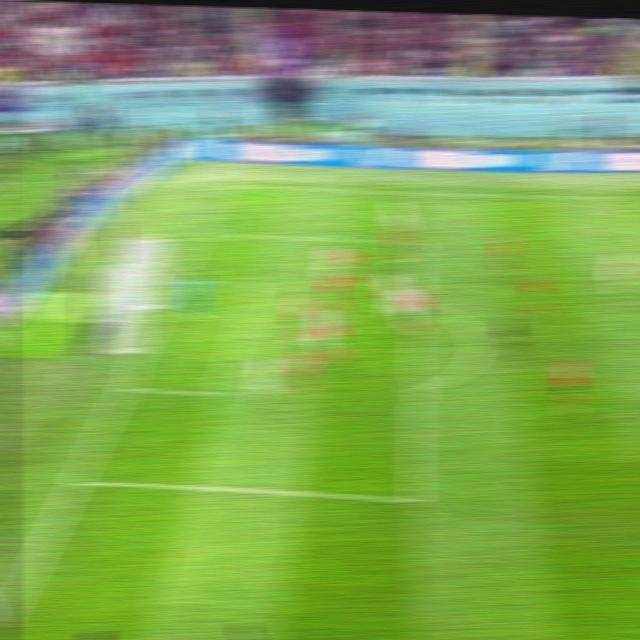bigarea_bottom_inner: (400, 484, 432, 513)
bigarea_bottom_outter: (64, 470, 93, 492)
bigarea_top_inner: (406, 232, 432, 253)
bigarea_top_outter: (190, 222, 215, 240)
bottom_arc_area_intersection: (405, 378, 432, 402)
corner: (214, 178, 239, 193)
smallarea_bottom_inner: (205, 376, 237, 407)
smallarea_bottom_outter: (110, 373, 141, 400)
smallarea_top_inner: (240, 273, 270, 296)
smallarea_top_outter: (164, 268, 190, 290)
